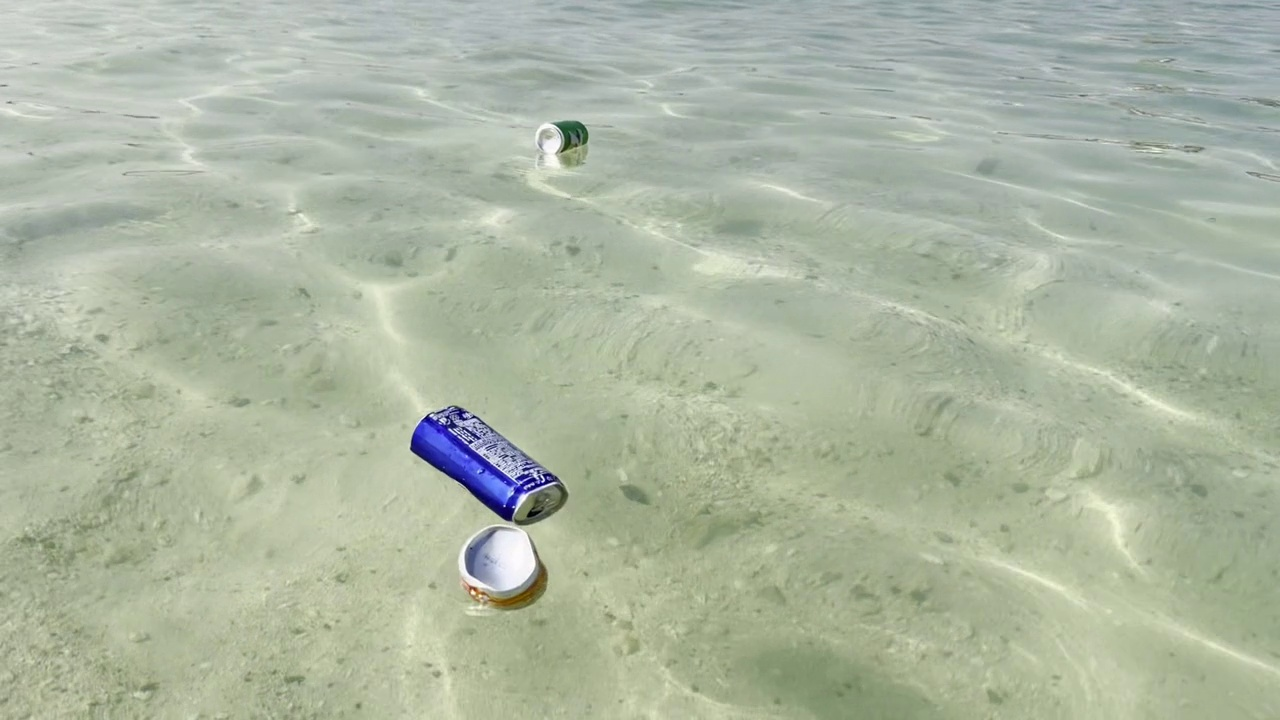debris: (402, 404, 571, 532), (449, 520, 557, 611), (535, 118, 598, 155)
